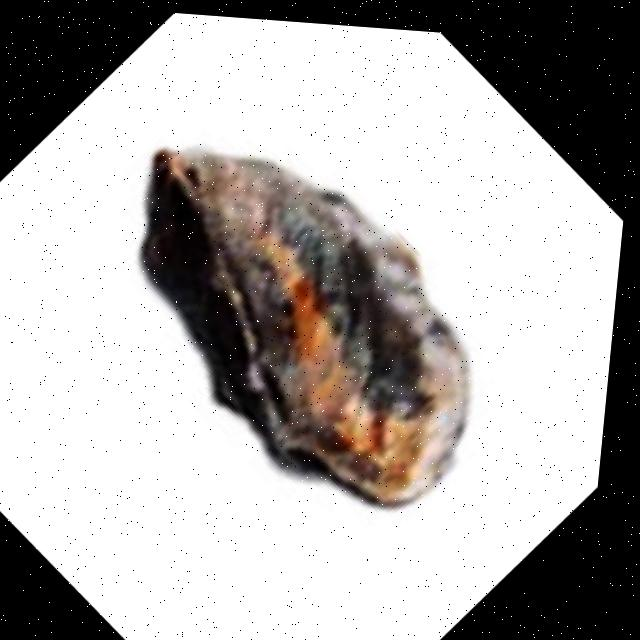Oyster-Closed: (34, 61, 568, 567)
